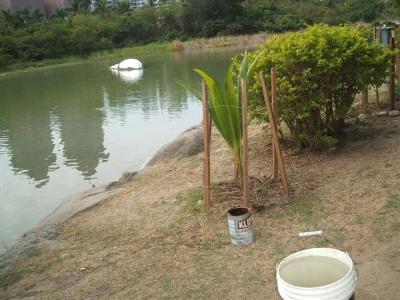bottle: (228, 206, 254, 245)
bucket: (276, 246, 358, 300)
